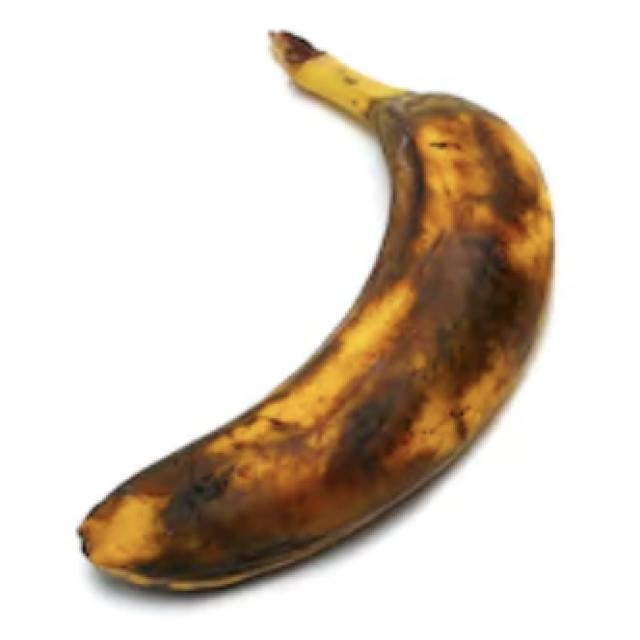rotten-banana: (75, 26, 555, 593)
